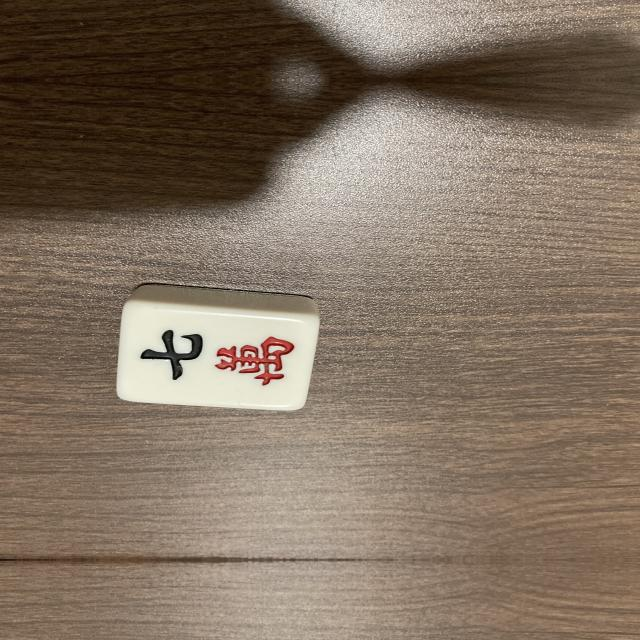m7: (130, 318, 303, 392)
